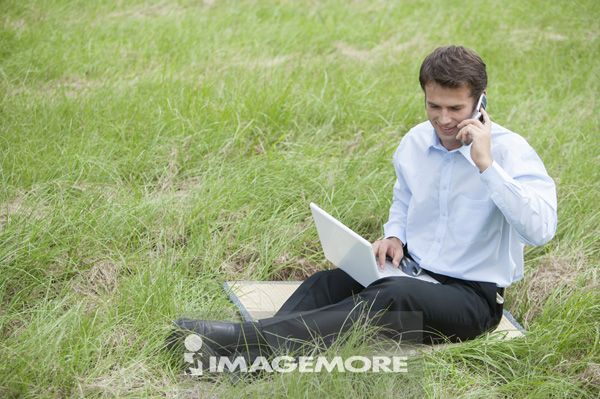talk: (424, 94, 494, 168)
